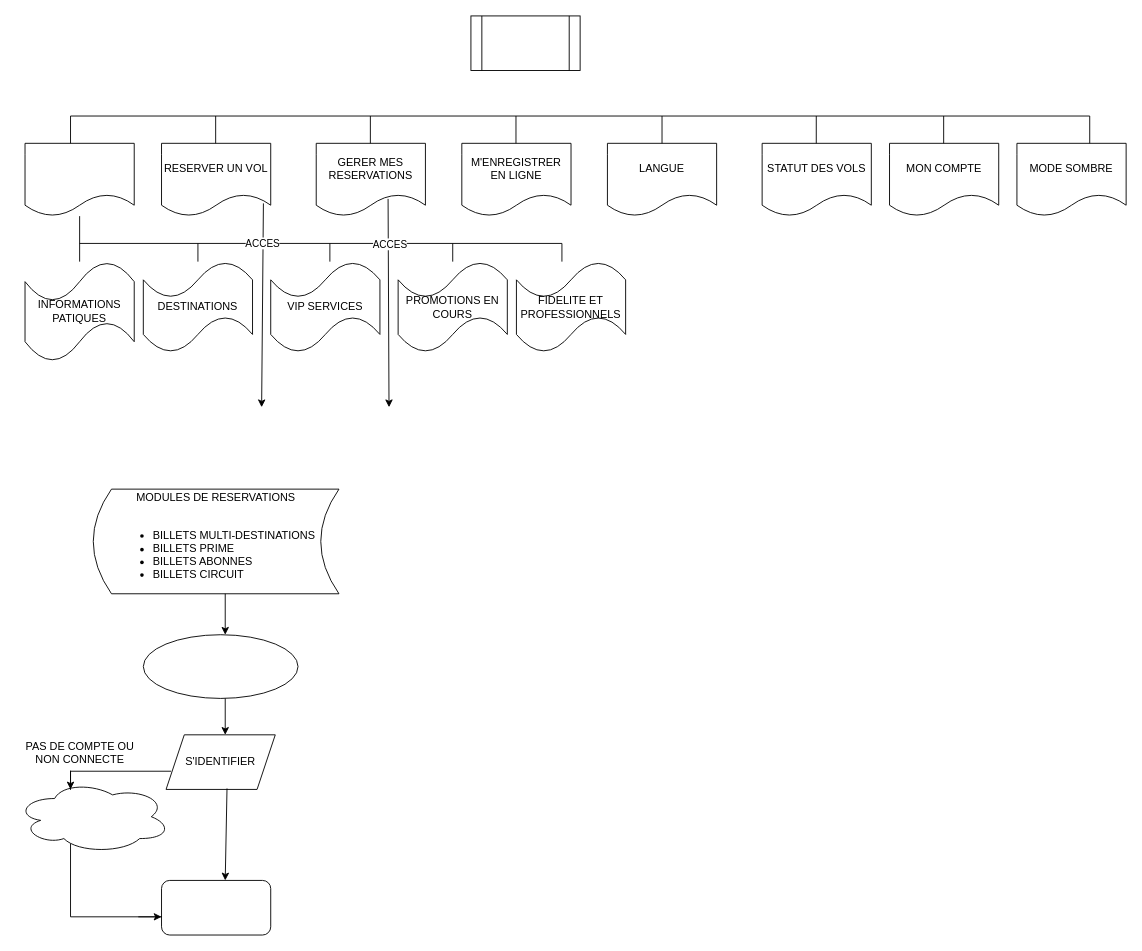
Some shapes in this 1142 by 951 pixel diagram are drawn without their labels. Each missing label, with the centre of its shape:
AIR CARAIBES: point 525,43
MENU: point 79,179
PAYER: point 216,907
RENSEIGNER LES COORDONNEES: point 93,816
SELECTIONNER VOL (BAGAGES SUPP ,SIEGE, PLATS,: point 220,666
